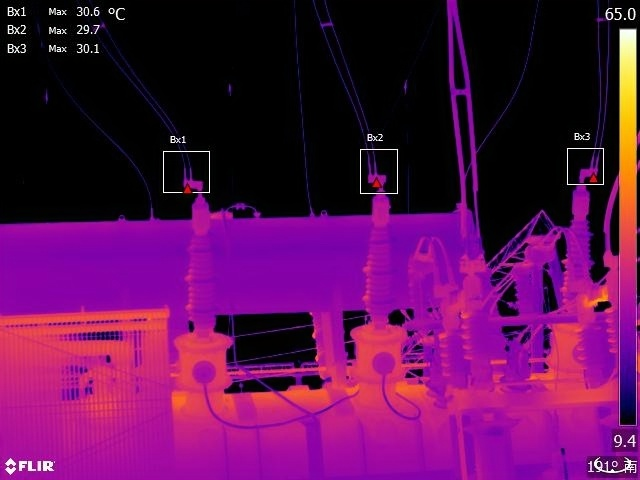oil conservator: (1, 203, 482, 324)
post insulator: (572, 311, 615, 390), (461, 309, 496, 373), (437, 329, 476, 383), (510, 272, 544, 317)
tube: (174, 190, 238, 398), (348, 182, 408, 386), (560, 177, 597, 309)
